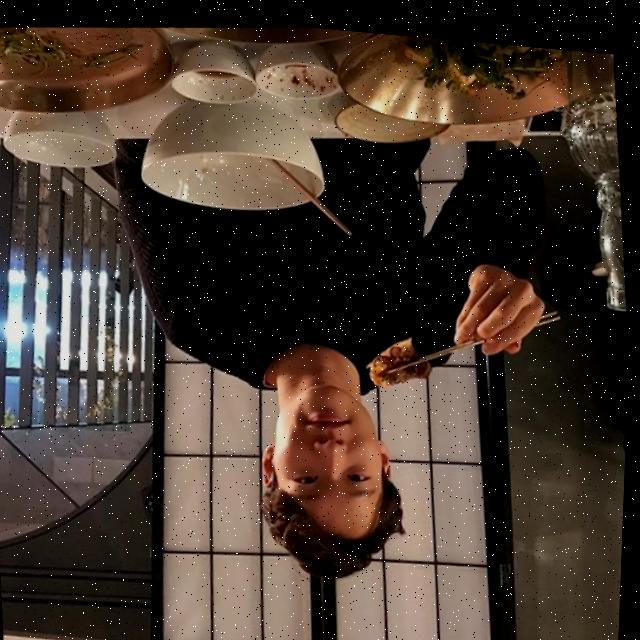eating-person: (77, 69, 598, 635)
